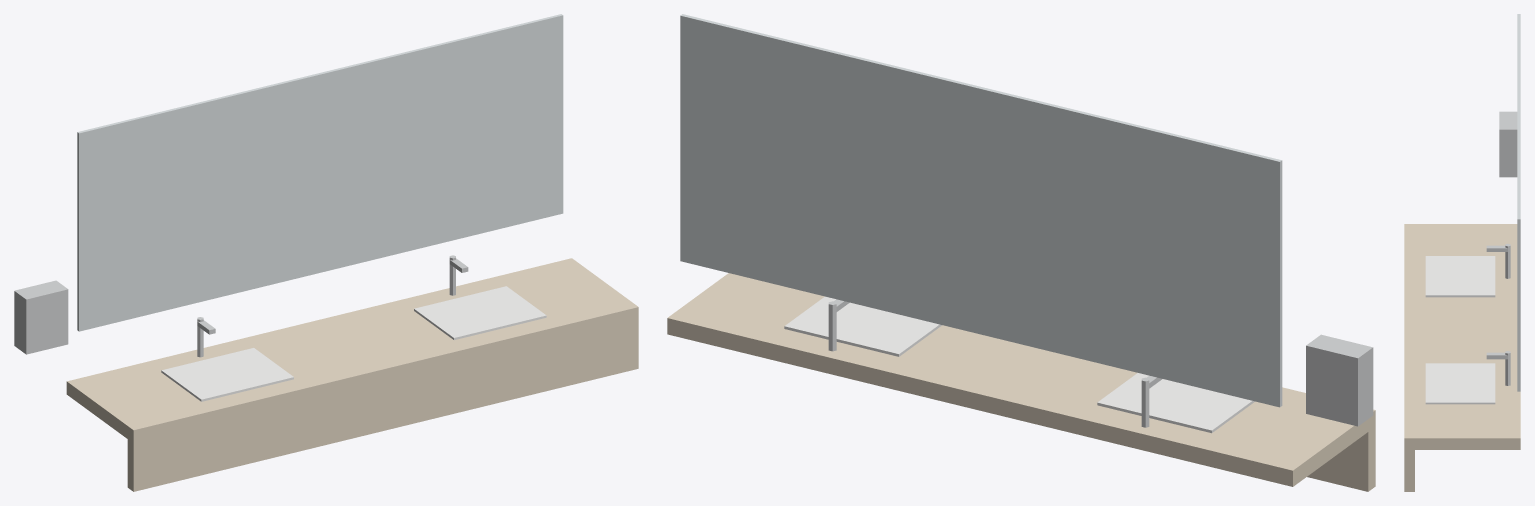
File: Basin_Counter.fbx
The picture shows the model from 3 angles, left to right: view 1: azimuth 30°, elevation 25°; view 2: azimuth 150°, elevation 25°; view 3: azimuth 270°, elevation 25°; orthographic projection. The views are drawn at different scales.
Visible parts, largest first — view 1: Basin_Counter; view 2: Basin_Counter; view 3: Basin_Counter.
Boxes of the visible parts, left/top/right/bottom form: Basin_Counter: left=14, top=14, right=638, bottom=491; Basin_Counter: left=667, top=14, right=1375, bottom=491; Basin_Counter: left=1404, top=14, right=1520, bottom=491.
Bounding box in the file's own units: 2.65 × 1.4 × 0.55.
